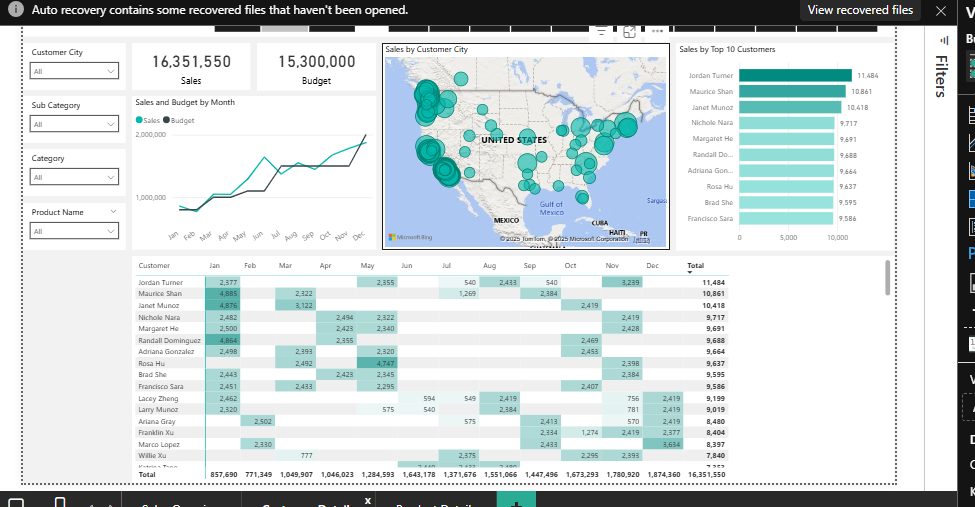

The dashboard page shown, as its layout file describes it:
{"tool":"powerbi","page":{"name":"Customer Details","canvas":[1280,720],"ordinal":1},"visuals":[{"type":"textbox","box":[0,0,1280,64],"z":0},{"type":"slicer","fields":{"Values":["DIM_Calendar.Year"]},"box":[256,0,256,64],"z":1000},{"type":"slicer","fields":{"Values":["DIM_Calendar.MonthShort"]},"box":[512,0,768,64],"z":2000},{"type":"slicer","fields":{"Values":["DIM_Customers.Customer City"]},"box":[0,73,150.5,69.3],"z":3000},{"type":"slicer","fields":{"Values":["DIM_Products.Product Category"]},"box":[0,229.9,150.5,69.3],"z":4000},{"type":"slicer","fields":{"Values":["DIM_Products.Product Name"]},"box":[0,308.4,150.5,69.3],"z":5000},{"type":"slicer","fields":{"Values":["DIM_Products.Sub Category"]},"box":[0,151.4,150.5,69.3],"z":6000},{"type":"lineChart","fields":{"Category":["DIM_Calendar.MonthShort"],"Y":["Analysis Metrics.Sales","Analysis Metrics.Budget"]},"box":[159.8,151.8,358.7,226.4],"z":7000},{"type":"card","fields":{"Values":["Analysis Metrics.Sales"]},"box":[160.7,72.8,174,69.2],"z":8000},{"type":"map","fields":{"Category":["DIM_Customers.Customer City"],"Size":["Analysis Metrics.Sales"]},"box":[527.3,72.8,423.5,304.5],"z":9000},{"type":"card","fields":{"Values":["Analysis Metrics.Budget"]},"box":[343.6,72.8,174.9,70.1],"z":10000},{"type":"pivotTable","fields":{"Rows":["DIM_Customers.Full Name"],"Columns":["DIM_Calendar.MonthShort"],"Values":["Analysis Metrics.Sales"]},"box":[159.8,387.1,1120.4,332.9],"z":11000},{"type":"barChart","title":"Sales by Top 10 Customers","fields":{"Category":["DIM_Customers.Full Name"],"Y":["Analysis Metrics.Sales"]},"box":[959.7,72.8,320.5,304.5],"z":12000}]}

Visuals, with their boxes on the page's 1280x720 design canvas (x1, y1, x2, y2). These are canvas units, not pixel positions in the 975x507 screenshot, which may show the page scaled, cropped or inside an application window:
textbox: (0, 0, 1280, 64)
slicer - DIM_Calendar.Year: (256, 0, 512, 64)
slicer - DIM_Calendar.MonthShort: (512, 0, 1280, 64)
slicer - DIM_Customers.Customer City: (0, 73, 150, 142)
slicer - DIM_Products.Product Category: (0, 230, 150, 299)
slicer - DIM_Products.Product Name: (0, 308, 150, 378)
slicer - DIM_Products.Sub Category: (0, 151, 150, 221)
lineChart - DIM_Calendar.MonthShort x Analysis Metrics.Sales: (160, 152, 518, 378)
card - Analysis Metrics.Sales: (161, 73, 335, 142)
map - DIM_Customers.Customer City x Analysis Metrics.Sales: (527, 73, 951, 377)
card - Analysis Metrics.Budget: (344, 73, 518, 143)
pivotTable - DIM_Customers.Full Name x DIM_Calendar.MonthShort: (160, 387, 1280, 720)
"Sales by Top 10 Customers" barChart: (960, 73, 1280, 377)
